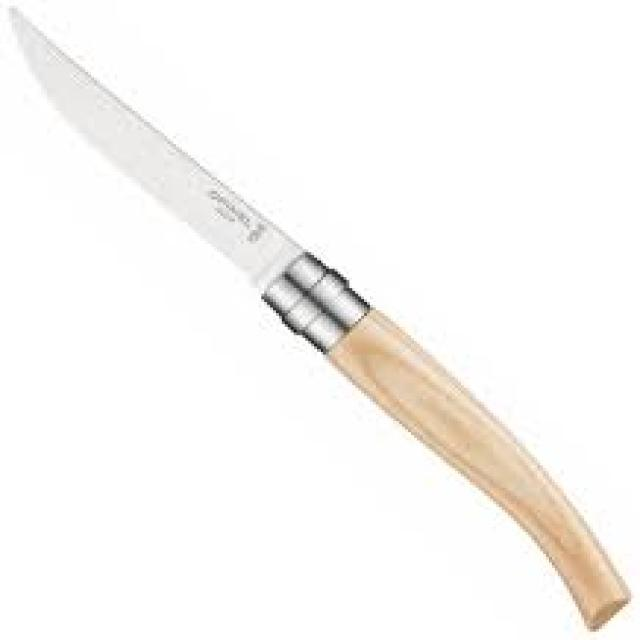knife: (9, 9, 637, 639)
